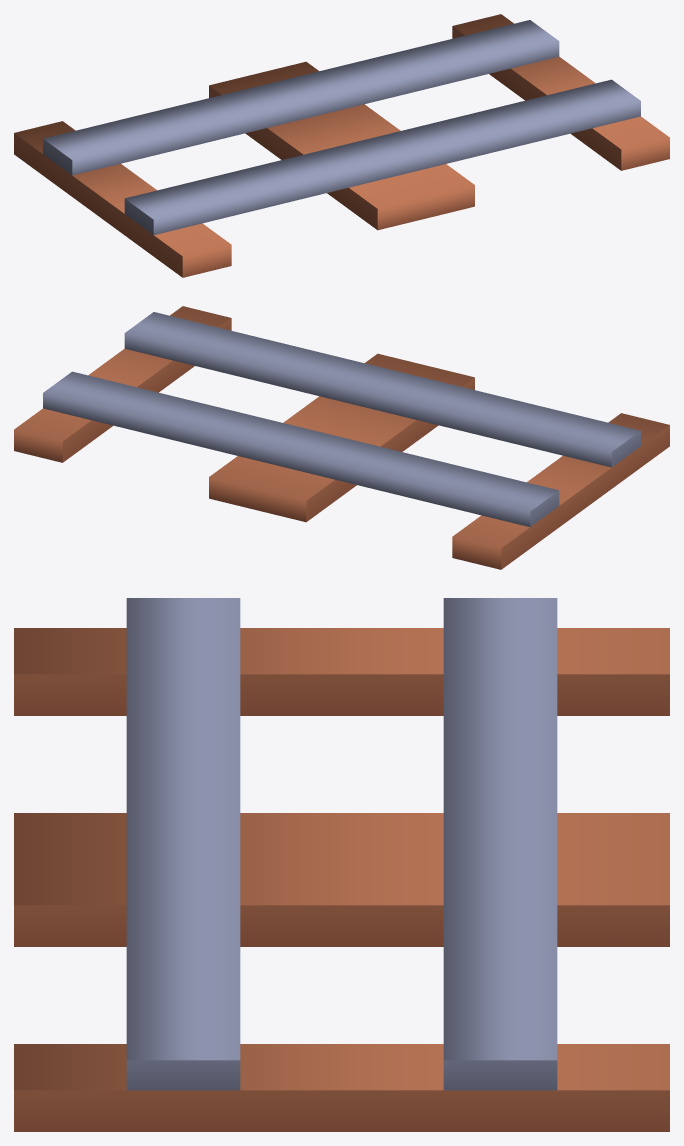
The model's file is trainset-rail-detailed-straight.glb.
3 views of the same model, one above another, from view 1: azimuth 30°, elevation 25°; view 2: azimuth 150°, elevation 25°; view 3: azimuth 270°, elevation 25° (orthographic). The views are drawn at different scales.
Visible parts, largest first — view 1: trainset-rail-detailed-straight; view 2: trainset-rail-detailed-straight; view 3: trainset-rail-detailed-straight.
Part boxes in pixels (x1,y1,x2,y2): trainset-rail-detailed-straight: [14, 14, 669, 277]; trainset-rail-detailed-straight: [14, 306, 669, 569]; trainset-rail-detailed-straight: [14, 598, 669, 1131].
Bounding box in the file's own units: 0.5 × 0.0362 × 0.3.
